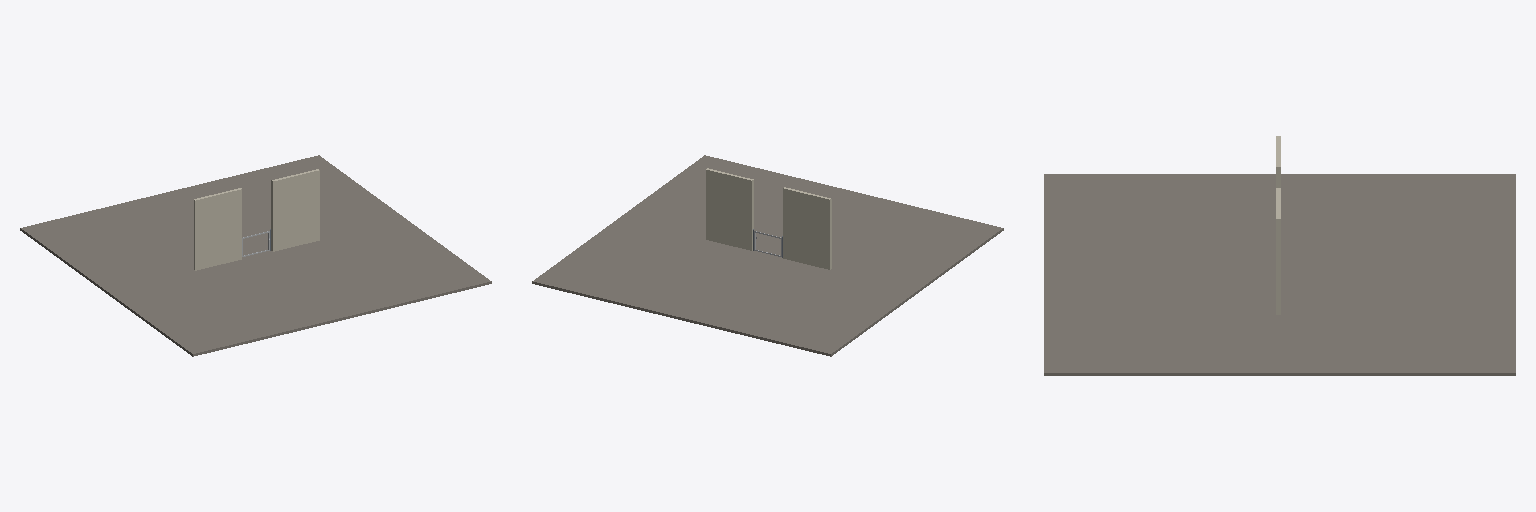
URDF robot description (db0332_baby_gate_minimal):
<?xml version="1.0" ?>
<robot xmlns:doorbench="https://github.com/adamraudonis/DoorBench/schema/urdf-ext" name="db0332_baby_gate_minimal">
  <link name="world_env">
    <visual name="floor_vis">
      <origin xyz="0 0 -0.05" rpy="0 0 0"/>
      <geometry>
        <box size="12 12 0.1"/>
      </geometry>
      <material name="mat_floor"/>
    </visual>
    <collision name="floor_col">
      <origin xyz="0 0 -0.05" rpy="0 0 0"/>
      <geometry>
        <box size="12 12 0.1"/>
      </geometry>
    </collision>
    <visual name="wall_left_vis">
      <origin xyz="-1.551 -0.0405 1.35" rpy="0 0 0"/>
      <geometry>
        <box size="1.898 0.115 2.7"/>
      </geometry>
      <material name="mat_wall"/>
    </visual>
    <collision name="wall_left_col">
      <origin xyz="-1.551 -0.0405 1.35" rpy="0 0 0"/>
      <geometry>
        <box size="1.898 0.115 2.7"/>
      </geometry>
    </collision>
    <visual name="wall_right_vis">
      <origin xyz="1.566 -0.0405 1.35" rpy="0 0 0"/>
      <geometry>
        <box size="1.868 0.115 2.7"/>
      </geometry>
      <material name="mat_wall"/>
    </visual>
    <collision name="wall_right_col">
      <origin xyz="1.566 -0.0405 1.35" rpy="0 0 0"/>
      <geometry>
        <box size="1.868 0.115 2.7"/>
      </geometry>
    </collision>
    <visual name="post_hinge_vis">
      <origin xyz="-0.587 0 0.415" rpy="0 0 0"/>
      <geometry>
        <cylinder radius="0.015" length="0.83"/>
      </geometry>
      <material name="mat_frame"/>
    </visual>
    <collision name="post_hinge_col">
      <origin xyz="-0.587 0 0.415" rpy="0 0 0"/>
      <geometry>
        <cylinder radius="0.015" length="0.83"/>
      </geometry>
    </collision>
    <visual name="post_latch_vis">
      <origin xyz="0.587 0 0.415" rpy="0 0 0"/>
      <geometry>
        <box size="0.03 0.03 0.83"/>
      </geometry>
      <material name="mat_frame"/>
    </visual>
    <collision name="post_latch_col">
      <origin xyz="0.587 0 0.415" rpy="0 0 0"/>
      <geometry>
        <box size="0.03 0.03 0.83"/>
      </geometry>
    </collision>
  </link>
  <link name="leaf">
    <inertial>
      <origin xyz="0.565768 -0.001779 0.407922" rpy="0 0 0"/>
      <mass value="11.076332"/>
      <inertia ixx="0.507938184" ixy="0.009736998" ixz="-0.015993206" iyy="1.675250336" iyz="0.001797285" izz="1.170523933"/>
    </inertial>
    <collision name="leaf_slab_col_col">
      <origin xyz="0.55 0 0.405" rpy="0 0 0"/>
      <geometry>
        <box size="1.1 0.02 0.75"/>
      </geometry>
    </collision>
    <visual name="leaf_rail_b_vis">
      <origin xyz="0.55 0 0.0525" rpy="0 0 0"/>
      <geometry>
        <box size="1.1 0.02 0.045"/>
      </geometry>
      <material name="mat_leaf"/>
    </visual>
    <visual name="leaf_rail_t_vis">
      <origin xyz="0.55 0 0.7575" rpy="0 0 0"/>
      <geometry>
        <box size="1.1 0.02 0.045"/>
      </geometry>
      <material name="mat_leaf"/>
    </visual>
    <visual name="leaf_stile_h_vis">
      <origin xyz="0.0225 0 0.405" rpy="0 0 0"/>
      <geometry>
        <box size="0.045 0.02 0.75"/>
      </geometry>
      <material name="mat_leaf"/>
    </visual>
    <visual name="leaf_stile_l_vis">
      <origin xyz="1.0775 0 0.405" rpy="0 0 0"/>
      <geometry>
        <box size="0.045 0.02 0.75"/>
      </geometry>
      <material name="mat_leaf"/>
    </visual>
    <visual name="leaf_cup_n_vis">
      <origin xyz="1.06 -0.057 0.505" rpy="0 0 0"/>
      <geometry>
        <box size="0.032 0.008 0.04"/>
      </geometry>
      <material name="mat_keeper"/>
    </visual>
    <collision name="leaf_cup_n_col">
      <origin xyz="1.06 -0.057 0.505" rpy="0 0 0"/>
      <geometry>
        <box size="0.032 0.008 0.04"/>
      </geometry>
    </collision>
    <visual name="leaf_cup_p_vis">
      <origin xyz="1.06 -0.033 0.505" rpy="0 0 0"/>
      <geometry>
        <box size="0.032 0.008 0.04"/>
      </geometry>
      <material name="mat_keeper"/>
    </visual>
    <collision name="leaf_cup_p_col">
      <origin xyz="1.06 -0.033 0.505" rpy="0 0 0"/>
      <geometry>
        <box size="0.032 0.008 0.04"/>
      </geometry>
    </collision>
    <visual name="leaf_cup_b_vis">
      <origin xyz="1.06 -0.045 0.481" rpy="0 0 0"/>
      <geometry>
        <box size="0.032 0.032 0.008"/>
      </geometry>
      <material name="mat_keeper"/>
    </visual>
    <collision name="leaf_cup_b_col">
      <origin xyz="1.06 -0.045 0.481" rpy="0 0 0"/>
      <geometry>
        <box size="0.032 0.032 0.008"/>
      </geometry>
    </collision>
    <visual name="leaf_cup_ramp_vis">
      <origin xyz="1.06 -0.080844 0.502012" rpy="-2.41495 0 0"/>
      <geometry>
        <box size="0.032 0.0602 0.008"/>
      </geometry>
      <material name="mat_keeper"/>
    </visual>
    <collision name="leaf_cup_ramp_col">
      <origin xyz="1.06 -0.080844 0.502012" rpy="-2.41495 0 0"/>
      <geometry>
        <box size="0.032 0.0602 0.008"/>
      </geometry>
    </collision>
  </link>
  <link name="leaf_pin">
    <inertial>
      <origin xyz="0 0 0.037519" rpy="0 0 0"/>
      <mass value="0.228168"/>
      <inertia ixx="0.000346413" ixy="0" ixz="0" iyy="0.000346413" iyz="0" izz="0.000010167"/>
    </inertial>
    <visual name="leaf_pin_geom_vis">
      <origin xyz="0 0 0.0025" rpy="0 0 0"/>
      <geometry>
        <cylinder radius="0.006" length="0.105"/>
      </geometry>
      <material name="mat_op_pvc"/>
    </visual>
    <collision name="leaf_pin_geom_col">
      <origin xyz="0 0 0.0025" rpy="0 0 0"/>
      <geometry>
        <cylinder radius="0.006" length="0.105"/>
      </geometry>
    </collision>
    <visual name="leaf_pin_knob_vis">
      <origin xyz="0 0 0.065" rpy="0 0 0"/>
      <geometry>
        <cylinder radius="0.012" length="0.02"/>
      </geometry>
      <material name="mat_op_pvc"/>
    </visual>
    <collision name="leaf_pin_knob_col">
      <origin xyz="0 0 0.065" rpy="0 0 0"/>
      <geometry>
        <cylinder radius="0.012" length="0.02"/>
      </geometry>
    </collision>
  </link>
  <joint name="leaf_hinge" type="revolute">
    <origin xyz="-0.556 0 0" rpy="0 0 0"/>
    <parent link="world_env"/>
    <child link="leaf"/>
    <axis xyz="0 0 1"/>
    <limit lower="-1.570796" upper="1.570796" effort="2000" velocity="10"/>
    <dynamics damping="0.248312" friction="0.229109"/>
    <doorbench:closer damping_closing="0" damping_opening="0" backcheck_angle="0" backcheck_damping="0"/>
  </joint>
  <joint name="leaf_pin_slide" type="prismatic">
    <origin xyz="0.504 -0.045 0.55" rpy="0 0 0"/>
    <parent link="world_env"/>
    <child link="leaf_pin"/>
    <axis xyz="0 0 1"/>
    <limit lower="0" upper="0.05" effort="5000" velocity="10"/>
    <dynamics damping="9.526824" friction="0.25"/>
    <doorbench:spring stiffness="60" springref="-0.016667" note="tau = -stiffness*(q - springref); not native URDF"/>
  </joint>
  <material name="mat_floor">
    <color rgba="0.55 0.53 0.5 1"/>
  </material>
  <material name="mat_frame">
    <color rgba="0.45 0.48 0.52 1"/>
  </material>
  <material name="mat_keeper">
    <color rgba="0.65 0.66 0.68 1"/>
  </material>
  <material name="mat_leaf">
    <color rgba="0.72 0.73 0.74 1"/>
  </material>
  <material name="mat_op_pvc">
    <color rgba="0.92 0.92 0.9 1"/>
  </material>
  <material name="mat_wall">
    <color rgba="0.78 0.76 0.7 1"/>
  </material>
</robot>

--- Facts derived from the render (not from the file) ---
3 views of the same robot in one strip: view 1: azimuth 30°, elevation 25°; view 2: azimuth 150°, elevation 25°; view 3: azimuth 270°, elevation 25° (orthographic).
Robot: db0332_baby_gate_minimal — 3 links, 2 joints (1 revolute, 1 prismatic); root link world_env; default pose: every joint at zero.
Links seen in each view (by area): view 1: world_env; view 2: world_env; view 3: world_env.
Link boxes in pixels (box(x1,y1,x2,y2)): world_env: box(20, 155, 491, 356); world_env: box(532, 155, 1003, 356); world_env: box(1044, 136, 1515, 375).
Size in the robot's own frame: 12 by 12 by 2.8 metres.
Geometry: primitives only (box / cylinder / sphere), no mesh files.
